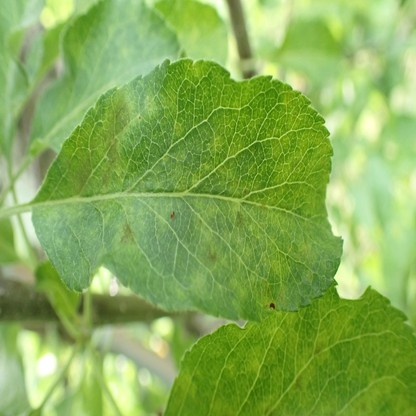scab: (68, 90, 317, 318), (175, 303, 416, 416)
